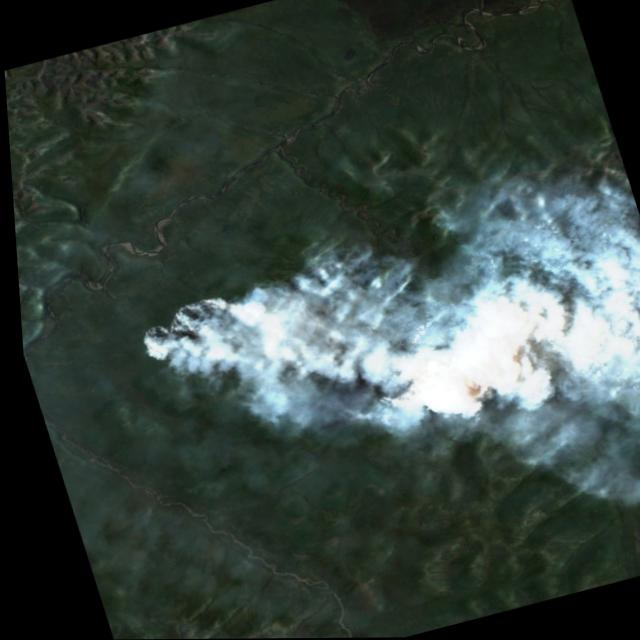fire: (122, 244, 440, 468)
